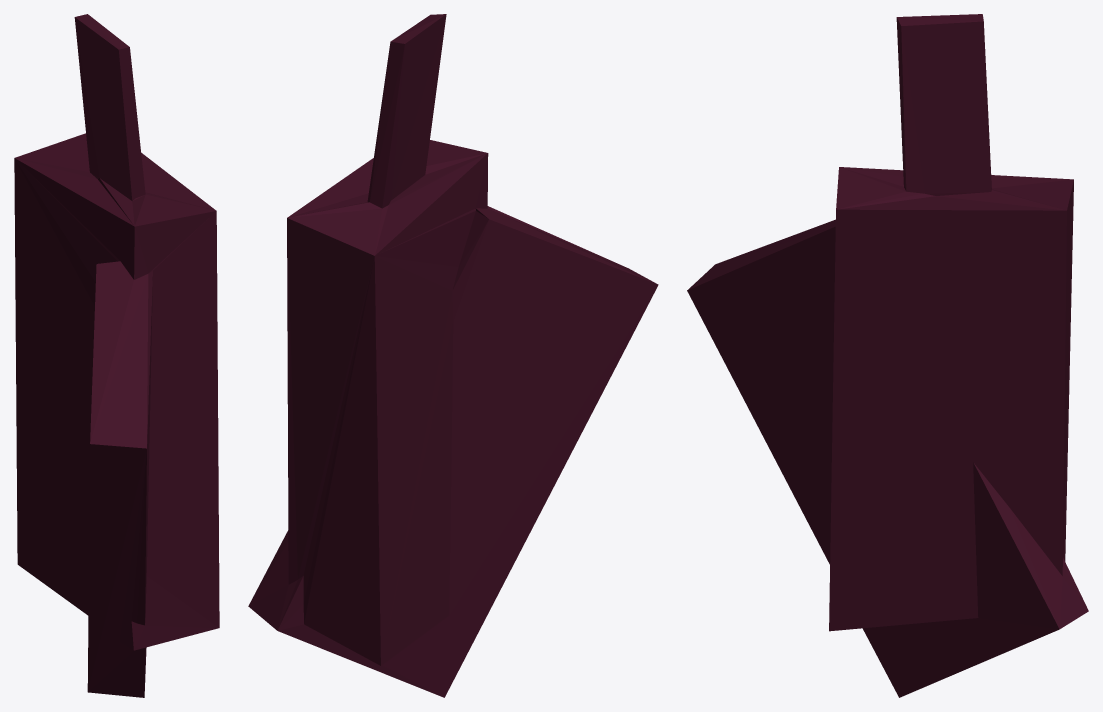
The picture shows the model from 3 angles, left to right: view 1: azimuth 30°, elevation 25°; view 2: azimuth 150°, elevation 25°; view 3: azimuth 270°, elevation 25°; orthographic projection. The views are drawn at different scales.
Parts seen in each view (by area): view 1: 801_Cube.3228; view 2: 801_Cube.3228; view 3: 801_Cube.3228.
Part boxes in pixels (x1=…): 801_Cube.3228: x1=14, y1=14, x2=219, y2=697; 801_Cube.3228: x1=248, y1=14, x2=658, y2=697; 801_Cube.3228: x1=687, y1=14, x2=1088, y2=697.
Bounding box in the file's own units: 7.02 × 19.12 × 10.4.
